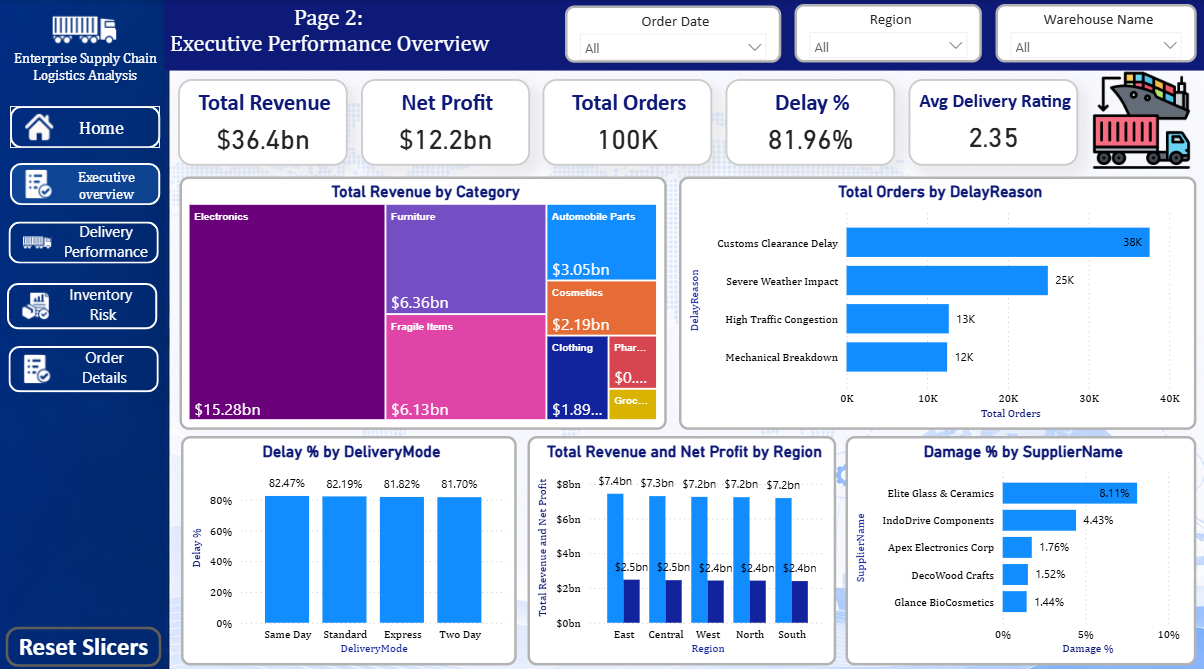

This screenshot's page, from the dashboard's own definition file:
{"tool":"powerbi","page":{"name":"Executive Overview","canvas":[1280,720],"ordinal":1},"visuals":[{"type":"group","id":"g1","title":"SideBar","box":[0,0,186.8,427.5],"z":0},{"type":"image","box":[0,0,183,67.4],"z":0,"group":"g1"},{"type":"actionButton","box":[12.7,114.4,159.3,44.6],"z":0,"group":"g3"},{"type":"actionButton","box":[12.7,175.1,159.3,44.6],"z":0,"group":"g2"},{"type":"actionButton","box":[11.8,237.1,159.3,44.6],"z":0,"group":"g4"},{"type":"actionButton","box":[10,301,159.3,49],"z":0,"group":"g5"},{"type":"actionButton","box":[11.1,368.3,159.3,49],"z":0,"group":"g6"},{"type":"textbox","box":[176.6,0,1103.9,76.3],"z":1000},{"type":"textbox","box":[0,50.1,184.9,52],"z":1000,"group":"g1"},{"type":"card","title":"Total Revenue","fields":{"Values":["Measure.Total Revenue"]},"box":[191.3,85.9,179.7,92.3],"z":1000,"group":"g7"},{"type":"textbox","box":[70.2,120.8,78.8,33.4],"z":1000,"group":"g3"},{"type":"textbox","box":[63.6,175.1,101.8,55.7],"z":1000,"group":"g2"},{"type":"textbox","box":[43.6,231.3,143.2,57.8],"z":1000,"group":"g4"},{"type":"textbox","box":[39.8,296.7,143.2,63.6],"z":1000,"group":"g5"},{"type":"textbox","box":[40.9,364,143.2,63.6],"z":1000,"group":"g6"},{"type":"group","id":"g2","title":"Group 1","box":[12.7,175.1,159.3,55.7],"z":2000,"group":"g1"},{"type":"treemap","title":"Total Revenue by Category","fields":{"Group":["Fact_Orders.PackageType"],"Values":["Measure.Total Revenue"]},"box":[192.5,189.3,516.9,268.8],"z":2000},{"type":"card","title":"Net Profit","fields":{"Values":["Measure.Net Profit"]},"box":[385.1,85.9,179,92.3],"z":3000,"group":"g7"},{"type":"group","id":"g3","title":"Group 2","box":[12.7,114.4,159.3,44.6],"z":3000,"group":"g1"},{"type":"clusteredBarChart","fields":{"Category":["Dim_Supplier.DelayReason"],"Y":["Measure.Total Orders"]},"box":[721.5,189.3,548.8,268.8],"z":3000},{"type":"card","title":"Total Orders","fields":{"Values":["Measure.Total Orders"]},"box":[578.2,85.9,179.7,92.3],"z":4000,"group":"g7"},{"type":"group","id":"g4","title":"Group 3","box":[11.8,231.3,175,57.8],"z":4000,"group":"g1"},{"type":"clusteredColumnChart","fields":{"Y":["Measure.Total Revenue","Measure.Net Profit"],"Category":["Fact_Orders.Region"]},"box":[561.5,464.5,327.7,243.4],"z":4000},{"type":"card","title":"Delay %","fields":{"Values":["Measure.Delay %"]},"box":[772.1,85.9,179.7,92.3],"z":5000,"group":"g7"},{"type":"group","id":"g5","title":"Group 4","box":[10,296.7,173,63.6],"z":5000,"group":"g1"},{"type":"clusteredColumnChart","fields":{"Y":["Measure.Damage %"],"Category":["Dim_Product.Category"]},"box":[194.1,464.5,356.3,243.4],"z":5000},{"type":"group","id":"g6","title":"Group 5","box":[11.1,364,173,63.6],"z":6000,"group":"g1"},{"type":"clusteredBarChart","fields":{"Y":["Measure.Damage %"],"Category":["Dim_Supplier.SupplierName"]},"box":[898.7,464.5,372.2,243.4],"z":6000},{"type":"group","id":"g7","title":"Group 6","box":[191.3,85.9,954.4,92.3],"z":7000},{"type":"card","title":"Avg Delivery Rating","fields":{"Values":["Measure.Avg Rating"]},"box":[965.9,85.9,179.7,92.3],"z":7000,"group":"g7"},{"type":"slicer","title":"Order Date","fields":{"Values":["Fact_Orders.OrderDate.Variation.Date Hierarchy.Year","Fact_Orders.OrderDate.Variation.Date Hierarchy.Quarter","Fact_Orders.OrderDate.Variation.Date Hierarchy.Month","Fact_Orders.OrderDate.Variation.Date Hierarchy.Day"]},"box":[601.3,8,229,60.4],"z":8000},{"type":"slicer","title":"Region","fields":{"Values":["Fact_Orders.Region"]},"box":[844.6,6.4,198.8,62],"z":9000},{"type":"slicer","title":"Warehouse Name","fields":{"Values":["Dim_Warehouse.WarehouseName"]},"box":[1057.8,6.4,213.1,62],"z":10000},{"type":"actionButton","box":[8,666.5,165.4,42.9],"z":10001},{"type":"image","box":[1144.8,76.3,135.2,106.6],"z":10002}]}

Visuals, with their boxes in screenshot pixels (x1, y1, x2, y2), scaled from the page's 1280x720 canvas onto the 1204x669 screenshot:
"SideBar" group: [x1=0, y1=0, x2=176, y2=397]
image: [x1=0, y1=0, x2=172, y2=63]
actionButton: [x1=12, y1=106, x2=162, y2=148]
actionButton: [x1=12, y1=163, x2=162, y2=204]
actionButton: [x1=11, y1=220, x2=161, y2=262]
actionButton: [x1=9, y1=280, x2=159, y2=325]
actionButton: [x1=10, y1=342, x2=160, y2=388]
textbox: [x1=166, y1=0, x2=1203, y2=71]
textbox: [x1=0, y1=47, x2=174, y2=95]
"Total Revenue" card: [x1=180, y1=80, x2=349, y2=166]
textbox: [x1=66, y1=112, x2=140, y2=143]
textbox: [x1=60, y1=163, x2=156, y2=214]
textbox: [x1=41, y1=215, x2=176, y2=269]
textbox: [x1=37, y1=276, x2=172, y2=335]
textbox: [x1=38, y1=338, x2=173, y2=397]
"Group 1" group: [x1=12, y1=163, x2=162, y2=214]
"Total Revenue by Category" treemap: [x1=181, y1=176, x2=667, y2=426]
"Net Profit" card: [x1=362, y1=80, x2=531, y2=166]
"Group 2" group: [x1=12, y1=106, x2=162, y2=148]
clusteredBarChart - Dim_Supplier.DelayReason x Measure.Total Orders: [x1=679, y1=176, x2=1195, y2=426]
"Total Orders" card: [x1=544, y1=80, x2=713, y2=166]
"Group 3" group: [x1=11, y1=215, x2=176, y2=269]
clusteredColumnChart - Measure.Total Revenue x Measure.Net Profit: [x1=528, y1=432, x2=836, y2=658]
"Delay %" card: [x1=726, y1=80, x2=895, y2=166]
"Group 4" group: [x1=9, y1=276, x2=172, y2=335]
clusteredColumnChart - Measure.Damage % x Dim_Product.Category: [x1=183, y1=432, x2=518, y2=658]
"Group 5" group: [x1=10, y1=338, x2=173, y2=397]
clusteredBarChart - Measure.Damage % x Dim_Supplier.SupplierName: [x1=845, y1=432, x2=1195, y2=658]
"Group 6" group: [x1=180, y1=80, x2=1078, y2=166]
"Avg Delivery Rating" card: [x1=909, y1=80, x2=1078, y2=166]
"Order Date" slicer: [x1=566, y1=7, x2=781, y2=64]
"Region" slicer: [x1=794, y1=6, x2=981, y2=64]
"Warehouse Name" slicer: [x1=995, y1=6, x2=1195, y2=64]
actionButton: [x1=8, y1=619, x2=163, y2=659]
image: [x1=1077, y1=71, x2=1203, y2=170]
